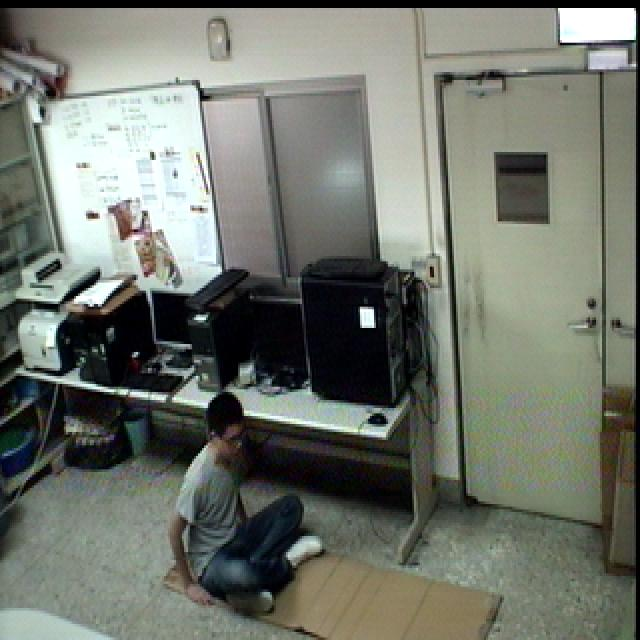sit: (163, 389, 325, 616)
